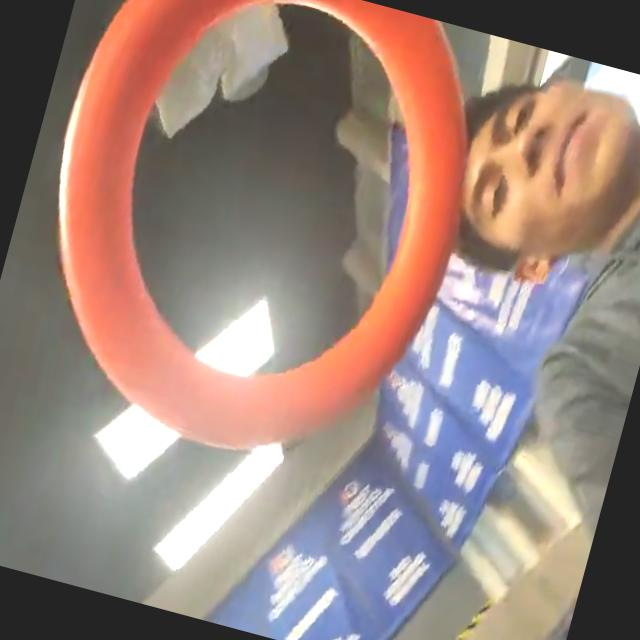note: (0, 0, 513, 488)
